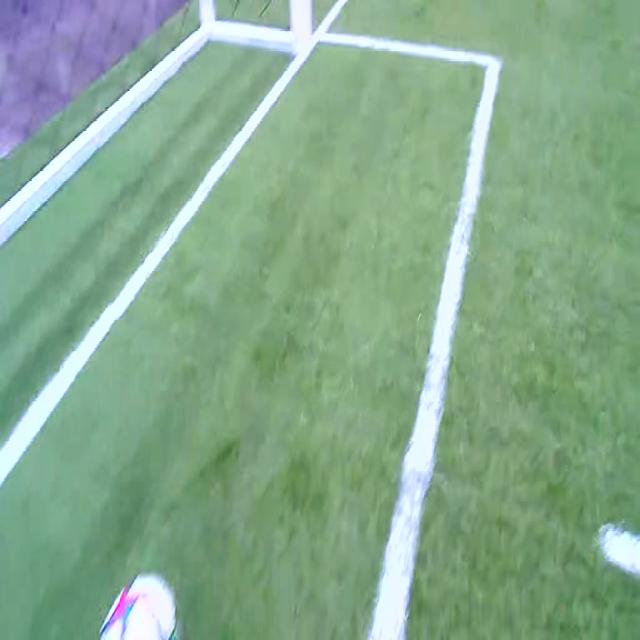ball: (99, 575, 178, 640)
